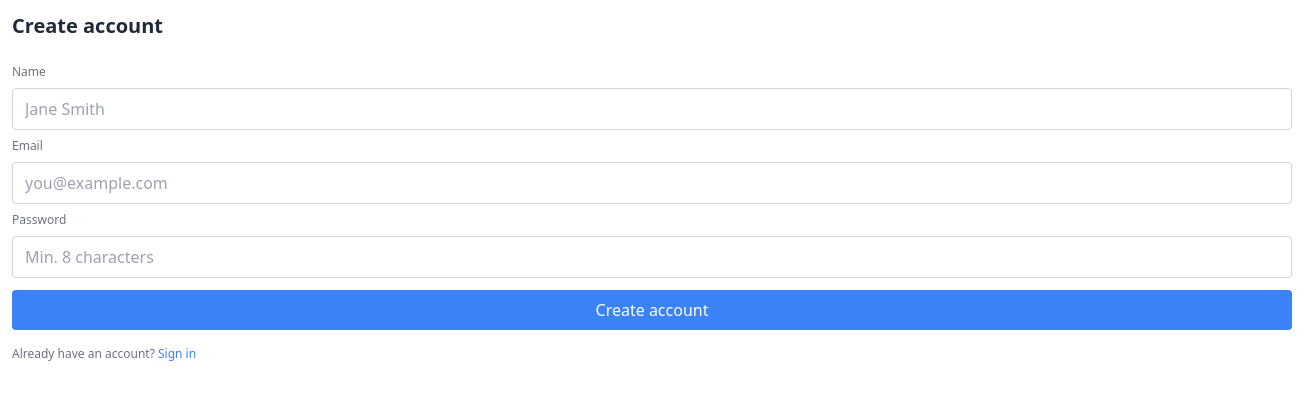
Scenario: RegisterForm › shows AuthError message on failed register
Type "Jane" into the field with placeholder "Jane Smith" at coordinates (652, 109), box 12,88 -> 1292,130
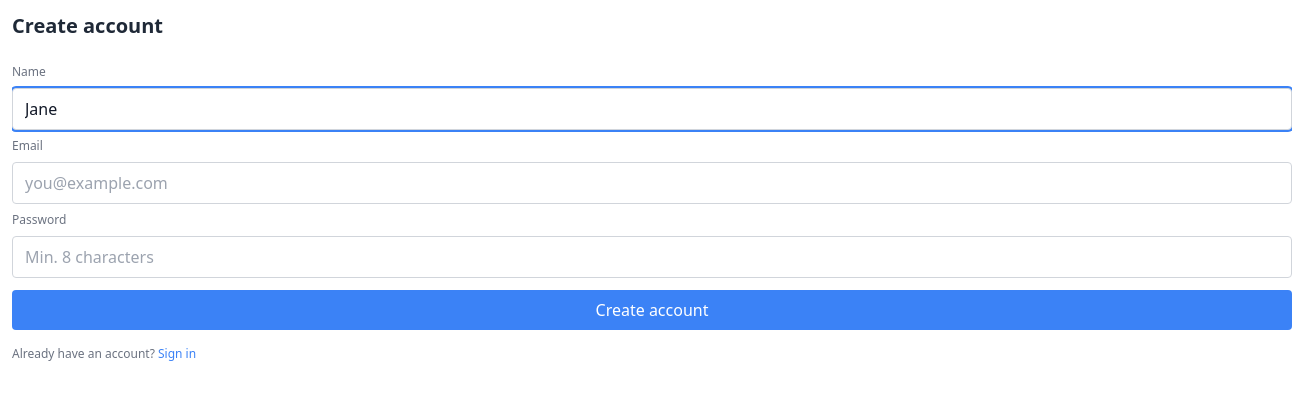
Type "jane@example.com" into the field with placeholder "you@example.com" at coordinates (652, 183), box 12,162 -> 1292,204
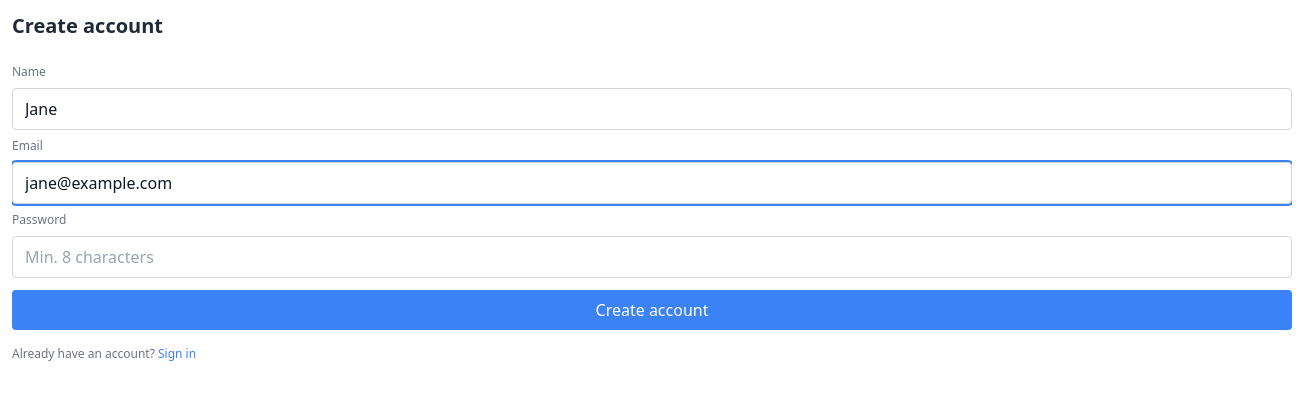
Type "password123" into the password field with placeholder "Min. 8 characters" at coordinates (652, 257), box 12,236 -> 1292,278
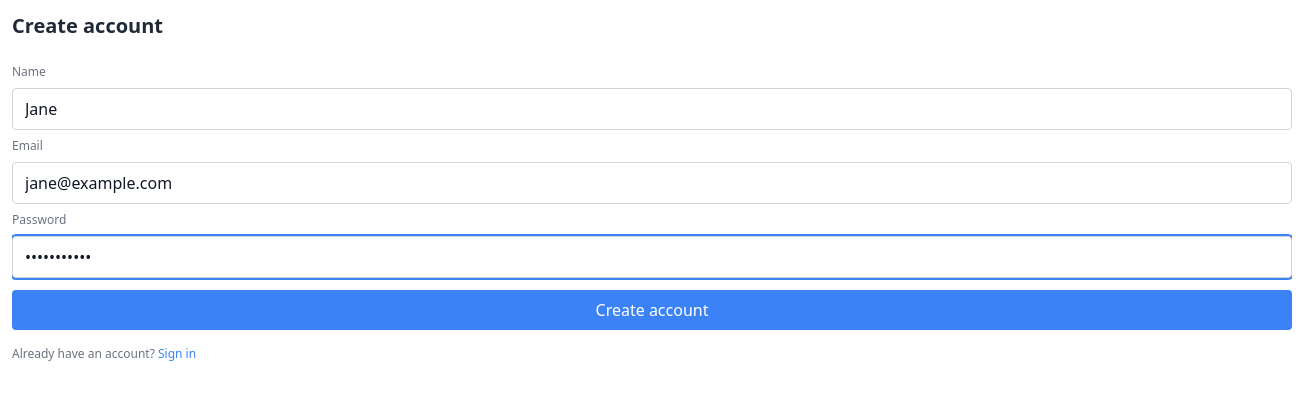
Click the button "Create account" at coordinates (652, 310), box 12,290 -> 1292,330
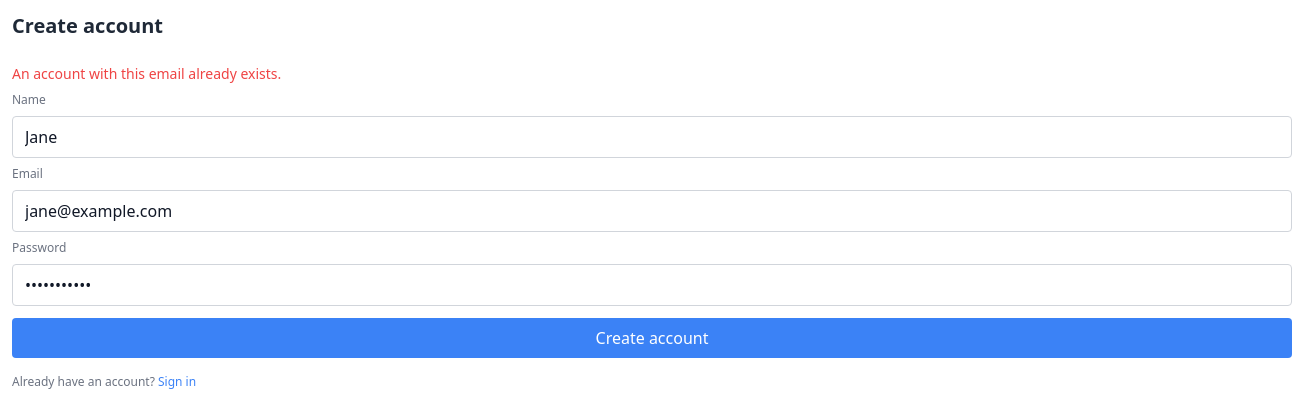
Expected: the text "An account with this email already exists." is shown, 12,64 -> 281,83
